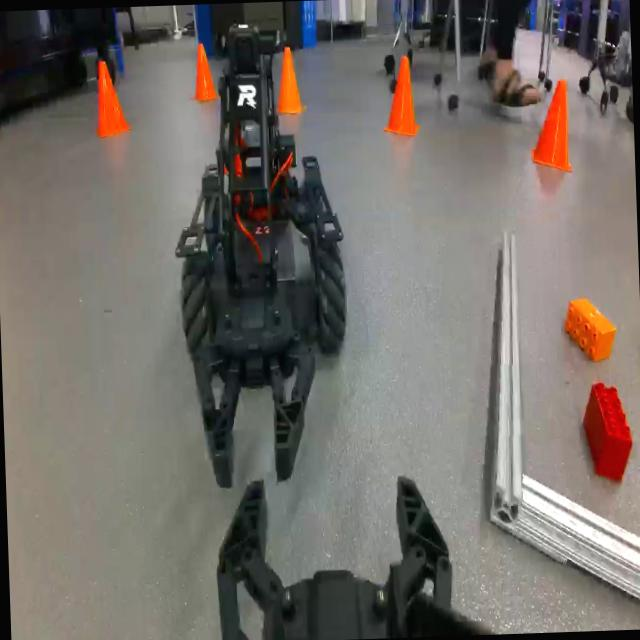cone: (532, 78, 572, 170), (384, 54, 419, 134), (95, 58, 130, 136), (277, 45, 305, 111), (191, 41, 218, 98)
metal barrier: (488, 231, 640, 599)
orange: (566, 297, 617, 360)
red goal: (584, 381, 633, 480), (593, 382, 633, 445)
robot: (174, 24, 346, 486)
